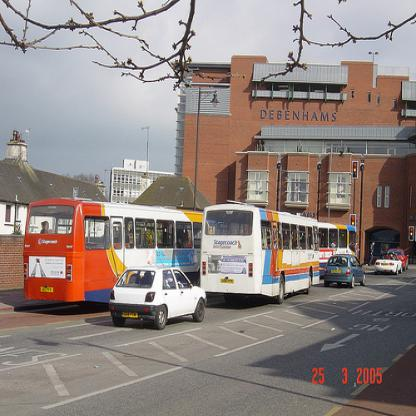bus: (21, 196, 204, 308), (200, 203, 318, 306), (317, 222, 356, 279)
car: (107, 264, 207, 331), (324, 253, 367, 287), (375, 253, 404, 274), (386, 249, 410, 270)
